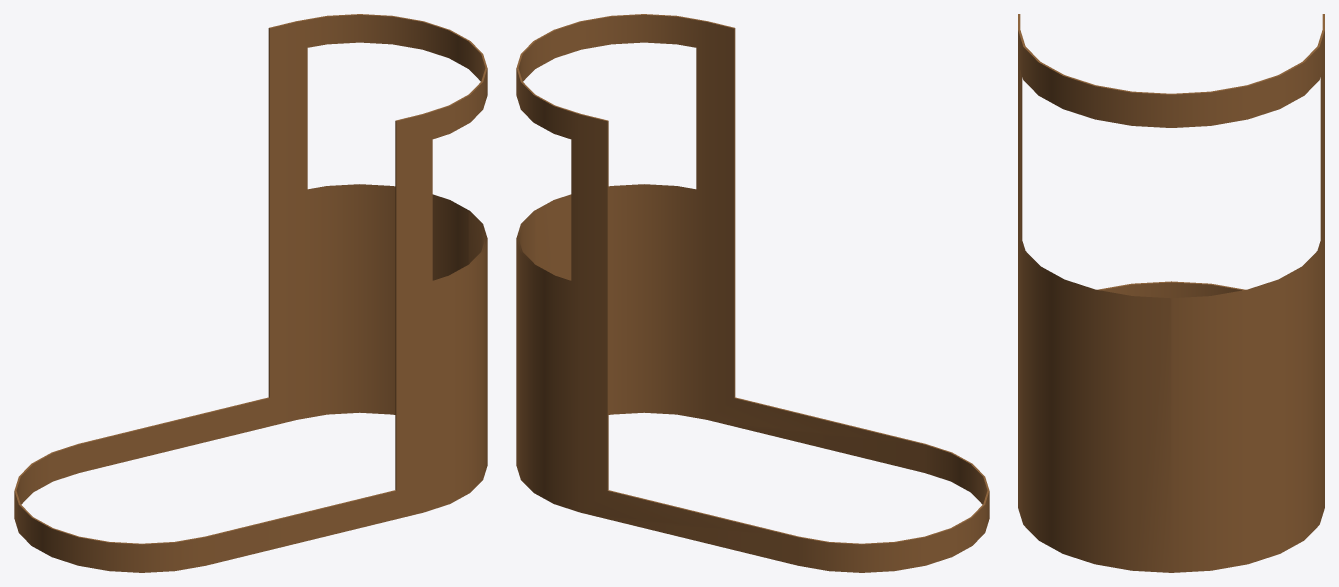
File: desk1.obj
3 views of the same model, side by side, from view 1: azimuth 30°, elevation 25°; view 2: azimuth 150°, elevation 25°; view 3: azimuth 270°, elevation 25° (orthographic). The views are drawn at different scales.
Parts seen in each view (by area): view 1: Mesh1 Model; view 2: Mesh1 Model; view 3: Mesh1 Model.
Part boxes in pixels (box(x1,y1,x2,y2)): Mesh1 Model: box(14, 14, 487, 572); Mesh1 Model: box(516, 14, 989, 572); Mesh1 Model: box(1018, 14, 1324, 572).
Size of the model in its own units: 16.13 by 13.97 by 8.12.
